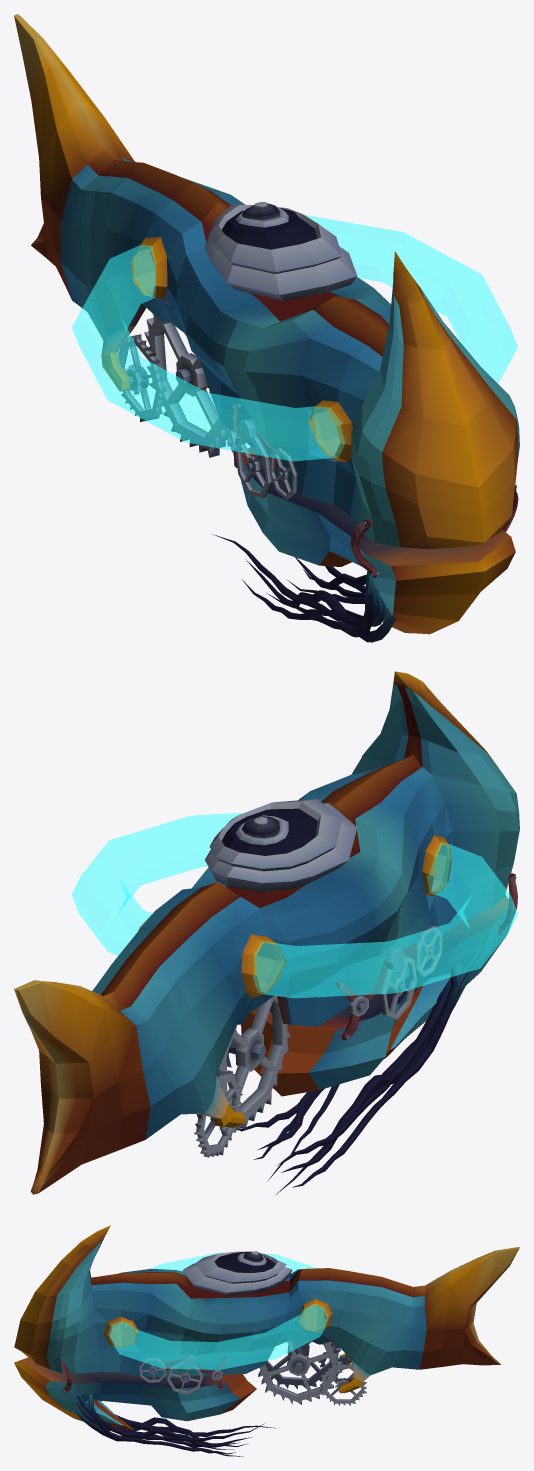
The model's file is waterboss.fbx.
3 renders of one model, top to bottom at view 1: azimuth 30°, elevation 25°; view 2: azimuth 150°, elevation 25°; view 3: azimuth 270°, elevation 25°, orthographic. The views are drawn at different scales.
Visible parts, largest first — view 1: WaterBossBody, WaterBoss.Ring, WaterBossLowerJaw; view 2: WaterBossBody, WaterBoss.Ring, WaterBossLowerJaw; view 3: WaterBossBody, WaterBossLowerJaw, WaterBoss.Ring.
Part boxes in pixels (x1=…): WaterBossBody: x1=14, y1=14, x2=519, y2=578; WaterBoss.Ring: x1=72, y1=215, x2=517, y2=461; WaterBossLowerJaw: x1=212, y1=447, x2=515, y2=642; WaterBossBody: x1=14, y1=671, x2=519, y2=1194; WaterBoss.Ring: x1=72, y1=813, x2=517, y2=998; WaterBossLowerJaw: x1=238, y1=895, x2=515, y2=1195; WaterBossBody: x1=14, y1=1225, x2=519, y2=1405; WaterBossLowerJaw: x1=14, y1=1357, x2=278, y2=1456; WaterBoss.Ring: x1=108, y1=1252, x2=328, y2=1369.
Size of the model in its own units: 557 by 594 by 1169.
